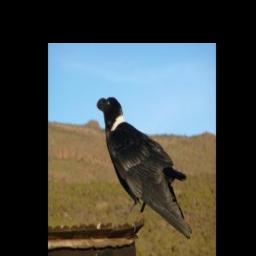Crow: (95, 92, 192, 240)
